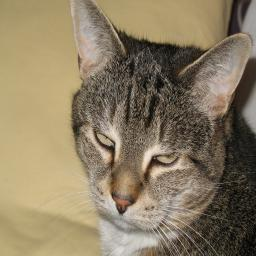catnose: (110, 189, 137, 217)
